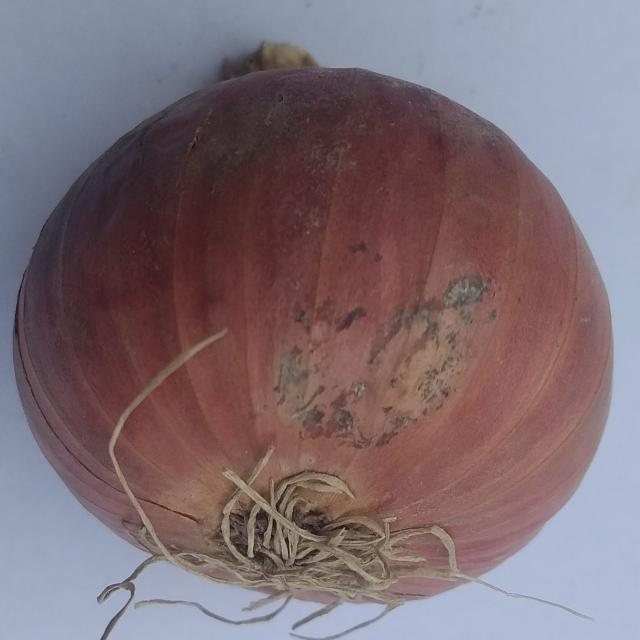onion: (11, 39, 616, 640)
